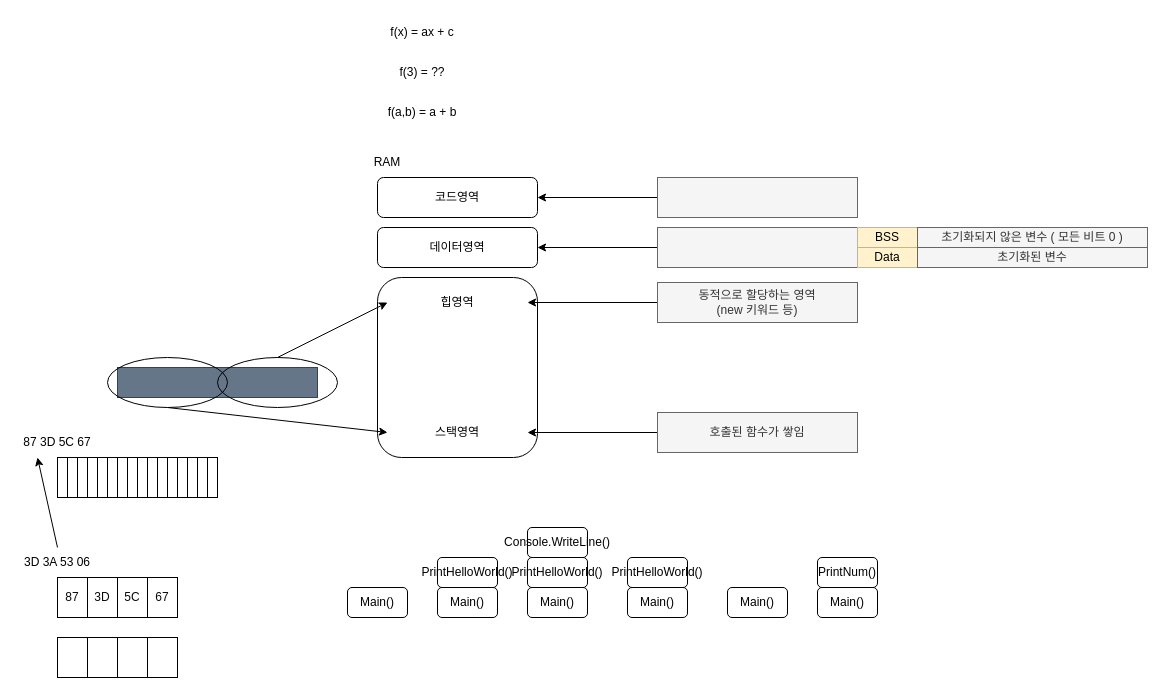
Image size: 1165x695. Some labels were removed from this diagram. The centre of each missing label's shape, as x and y in pixels:
Human human1 = new Human ();: (217,382)
작성한 소스코드가 컴파일되어 기계어로 번역된 코드: (757,197)
전역변수, 멤버변수: (757,247)
